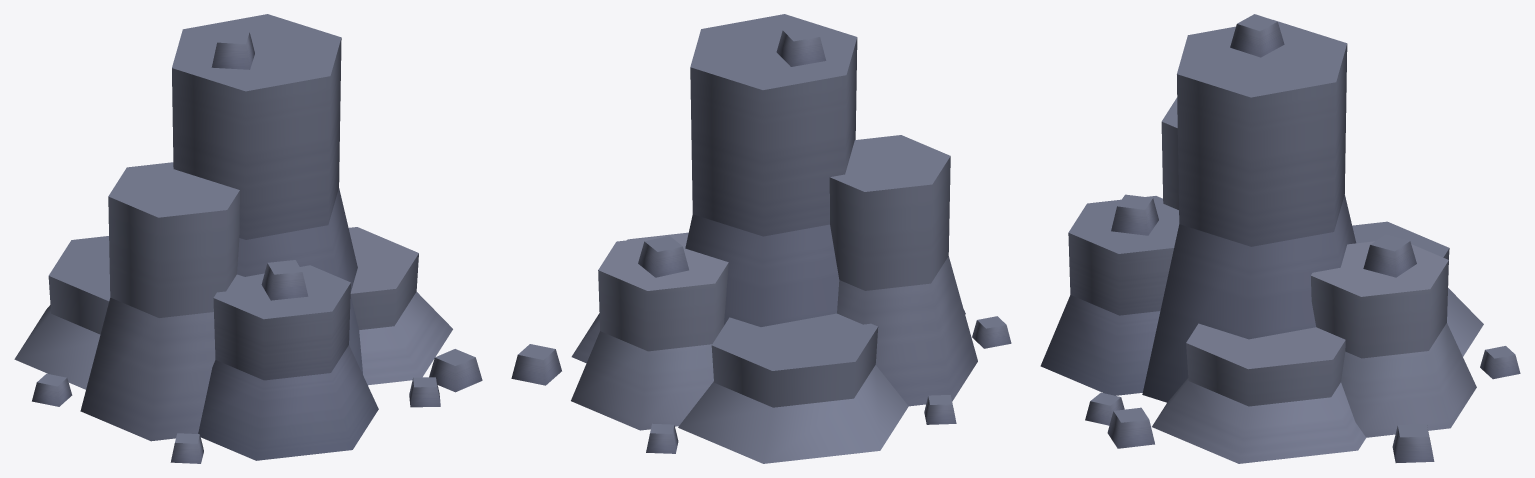
Rendered from rocks-b.gltf.
3 views of the same model, side by side, from view 1: azimuth 30°, elevation 25°; view 2: azimuth 150°, elevation 25°; view 3: azimuth 270°, elevation 25° (orthographic). The views are drawn at different scales.
Parts seen in each view (by area): view 1: rocks-b; view 2: rocks-b; view 3: rocks-b.
Boxes of the visible parts, bbox=[...] form: rocks-b: bbox=[14, 14, 482, 463]; rocks-b: bbox=[511, 14, 1011, 463]; rocks-b: bbox=[1040, 14, 1520, 463].
Bounding box in the file's own units: 4.44 × 3.65 × 4.7.
Materials: 1 (1 with a texture image).
